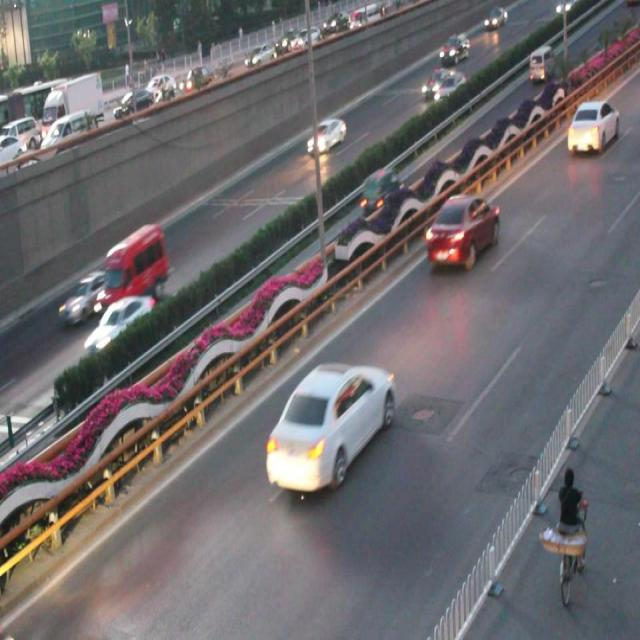car: (265, 364, 394, 492), (426, 194, 500, 272), (84, 293, 157, 353), (565, 101, 619, 156), (58, 268, 110, 321), (359, 167, 400, 215), (305, 118, 345, 156), (430, 73, 466, 105), (418, 64, 450, 98)
truck: (95, 223, 169, 309)
